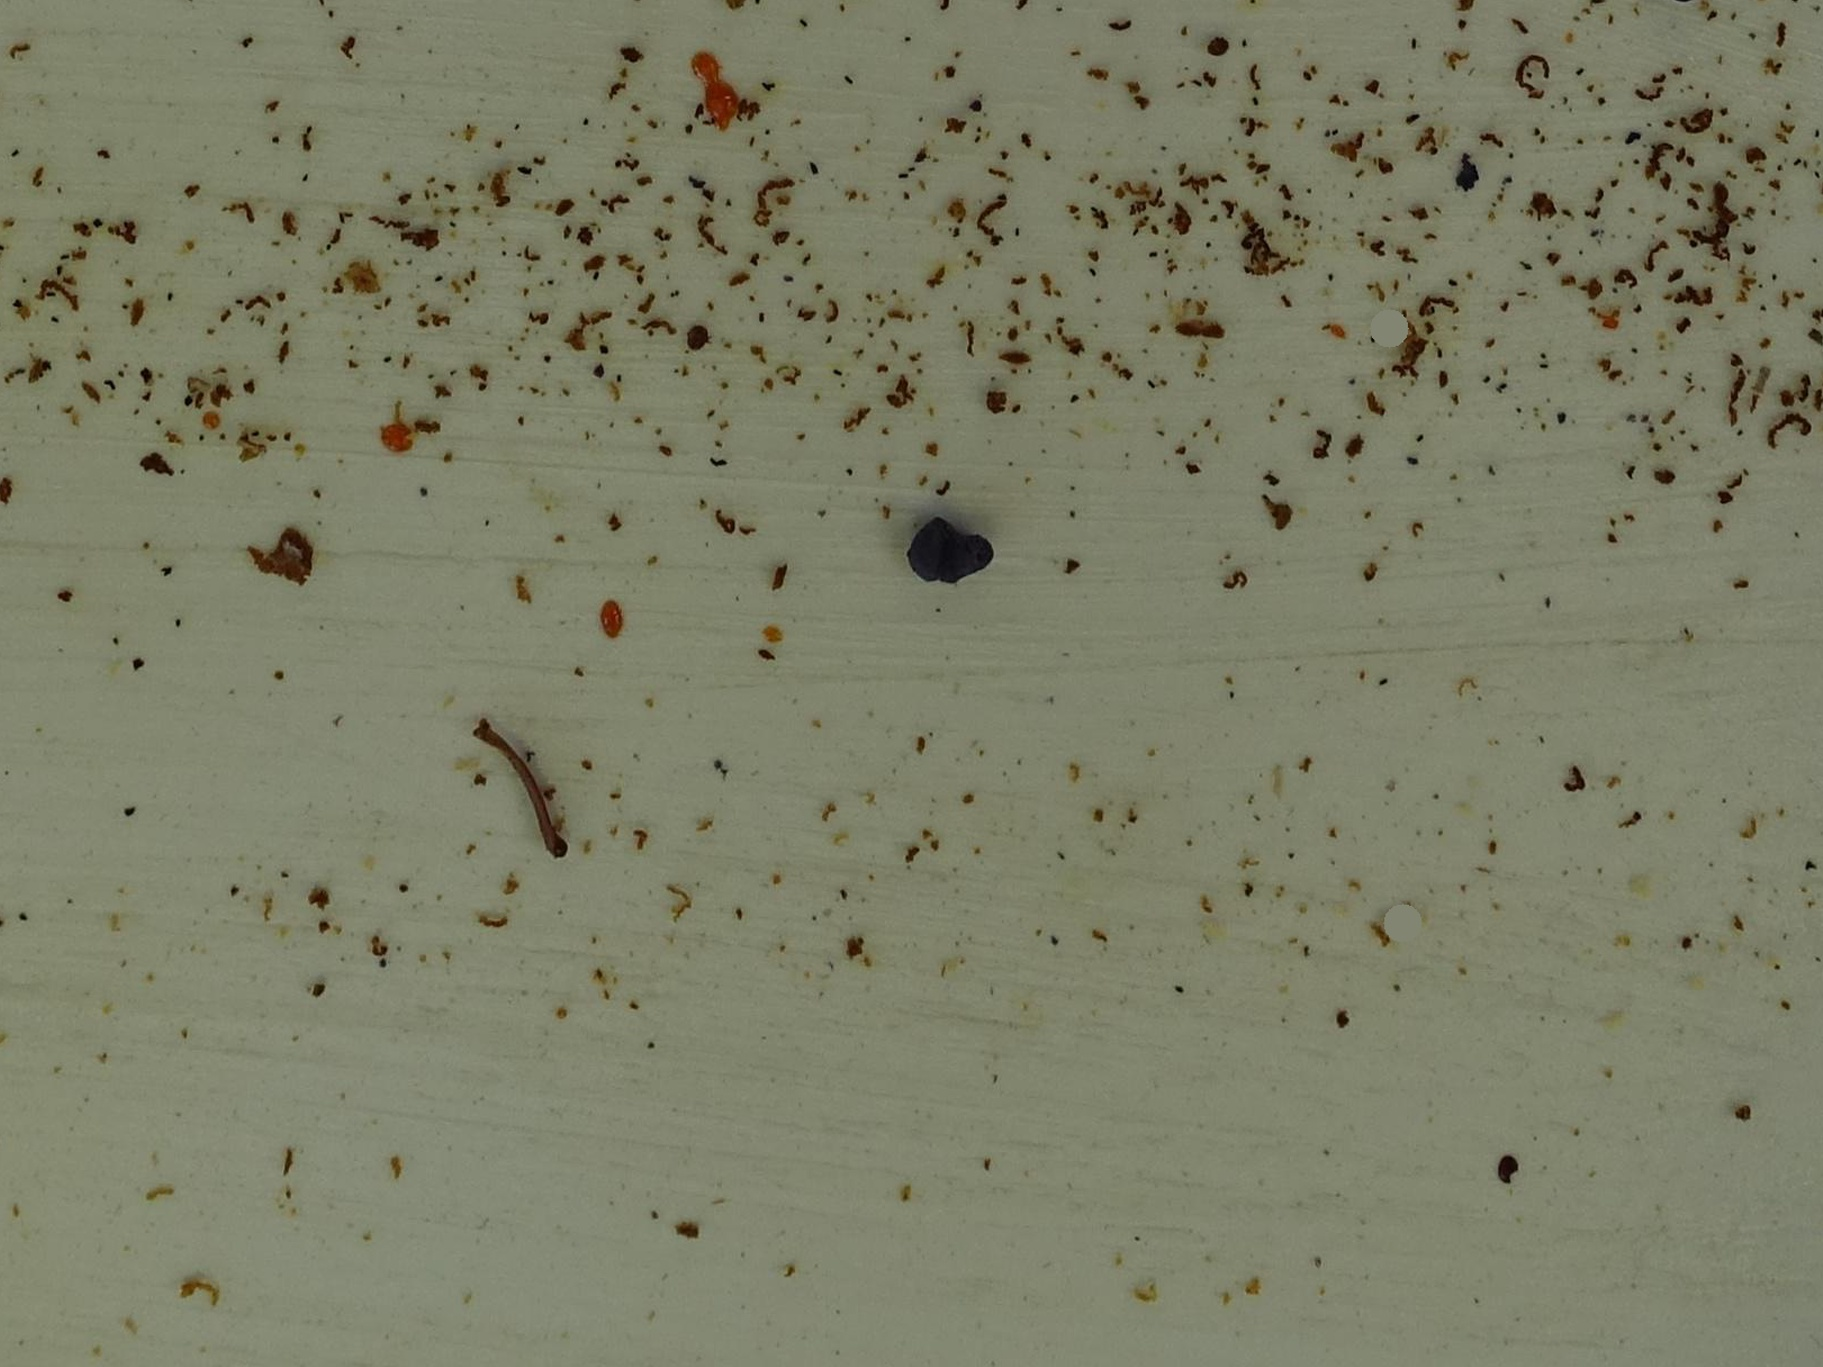Varroa: (1207, 34, 1229, 57), (688, 327, 708, 349), (1497, 1157, 1517, 1179)
